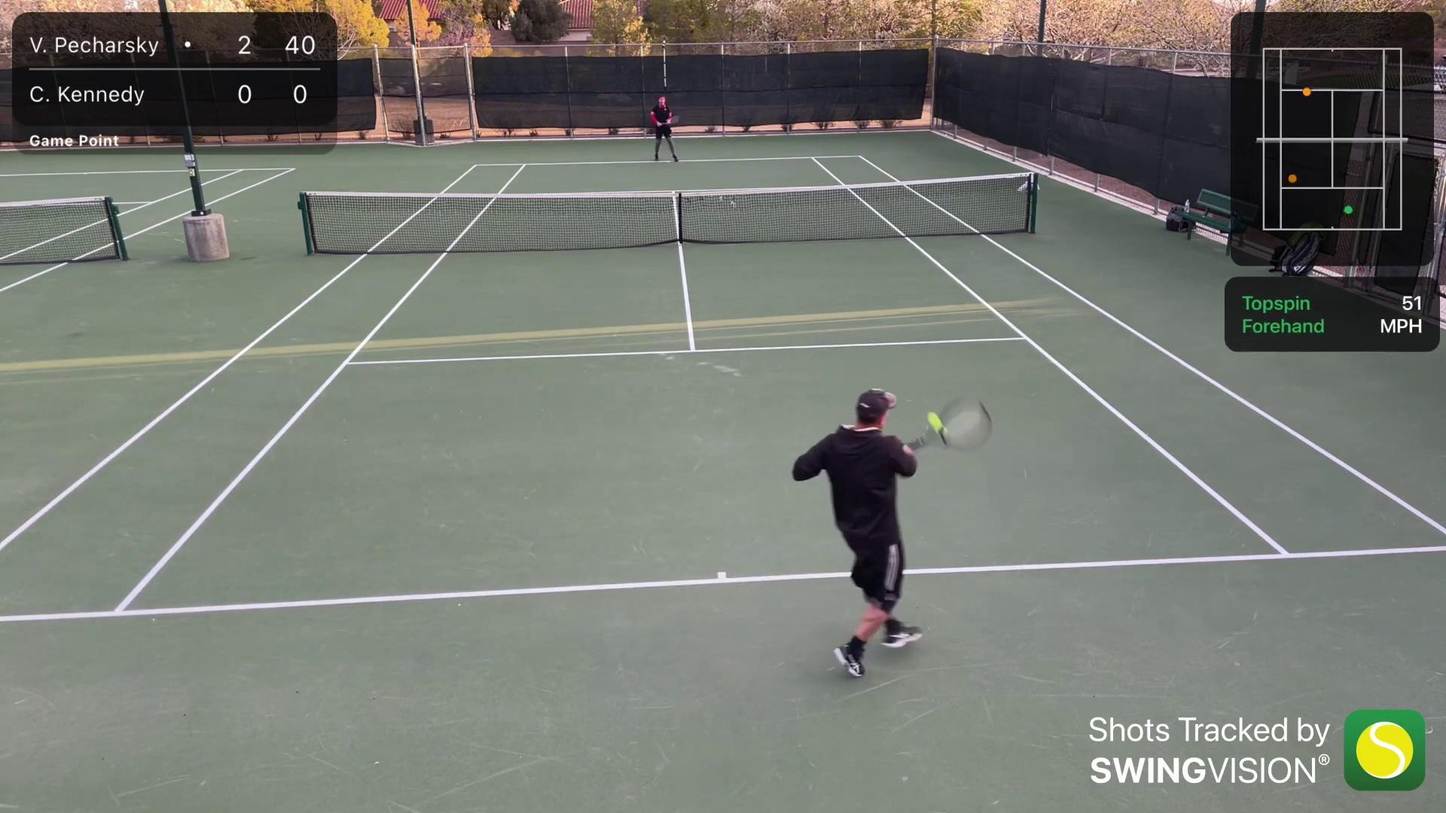ball: (924, 410, 948, 436)
